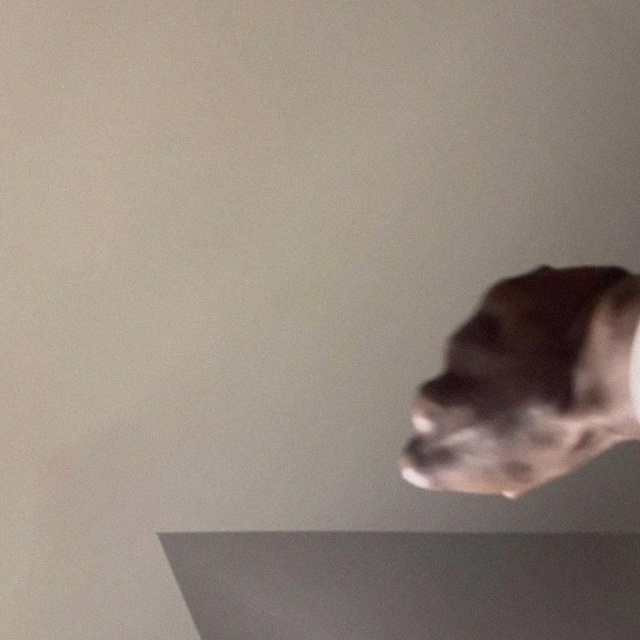Rock: (370, 207, 640, 552)
